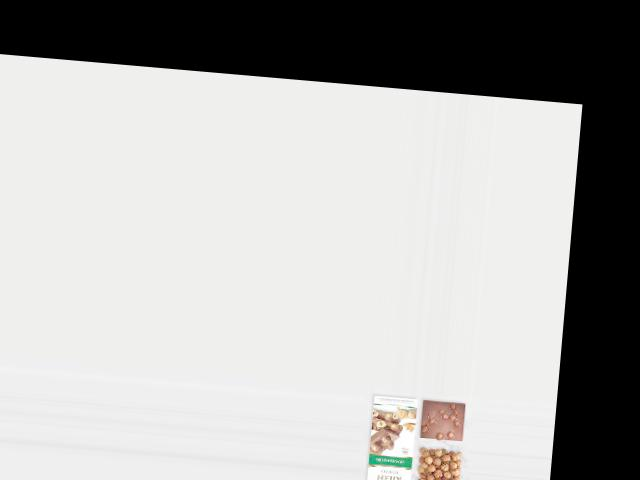chocolate: (417, 397, 471, 442)
